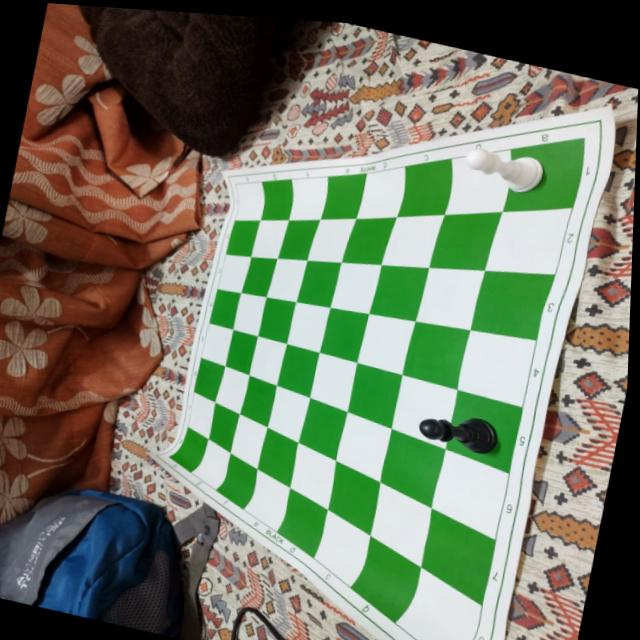board: (153, 108, 607, 640)
square: (420, 508, 494, 606), (430, 449, 508, 540), (445, 389, 521, 474), (394, 567, 481, 640), (350, 536, 420, 623), (456, 330, 535, 407), (502, 138, 584, 212), (470, 270, 554, 340), (485, 208, 571, 275), (378, 429, 445, 508), (369, 482, 430, 567), (390, 375, 457, 449), (401, 321, 470, 390), (312, 509, 370, 588), (428, 212, 502, 271), (415, 268, 484, 331), (444, 150, 510, 215), (327, 461, 379, 536), (336, 412, 391, 482), (356, 314, 415, 375), (276, 488, 327, 558), (346, 363, 400, 428), (368, 265, 428, 322), (380, 215, 444, 268), (395, 159, 451, 217), (289, 443, 335, 510), (298, 398, 346, 461), (242, 469, 289, 532), (309, 353, 356, 412), (318, 308, 367, 363), (341, 217, 396, 265), (330, 263, 381, 314), (355, 167, 405, 219), (256, 428, 298, 488), (266, 385, 309, 443), (215, 453, 257, 509), (276, 344, 319, 398), (306, 218, 356, 263), (286, 302, 329, 353), (320, 173, 367, 219), (295, 260, 340, 308), (229, 414, 267, 470), (190, 439, 230, 490), (239, 375, 276, 428), (248, 336, 286, 386), (257, 297, 295, 344), (265, 259, 306, 302), (169, 427, 207, 473), (277, 219, 319, 260), (288, 177, 327, 220), (215, 366, 249, 414), (208, 403, 239, 453), (224, 330, 257, 375), (250, 220, 288, 259), (240, 257, 277, 297), (232, 293, 266, 336), (193, 358, 224, 403), (200, 323, 232, 366), (216, 254, 250, 293), (187, 392, 215, 439), (208, 289, 240, 330), (260, 179, 291, 220), (225, 221, 259, 257), (234, 182, 261, 220)
